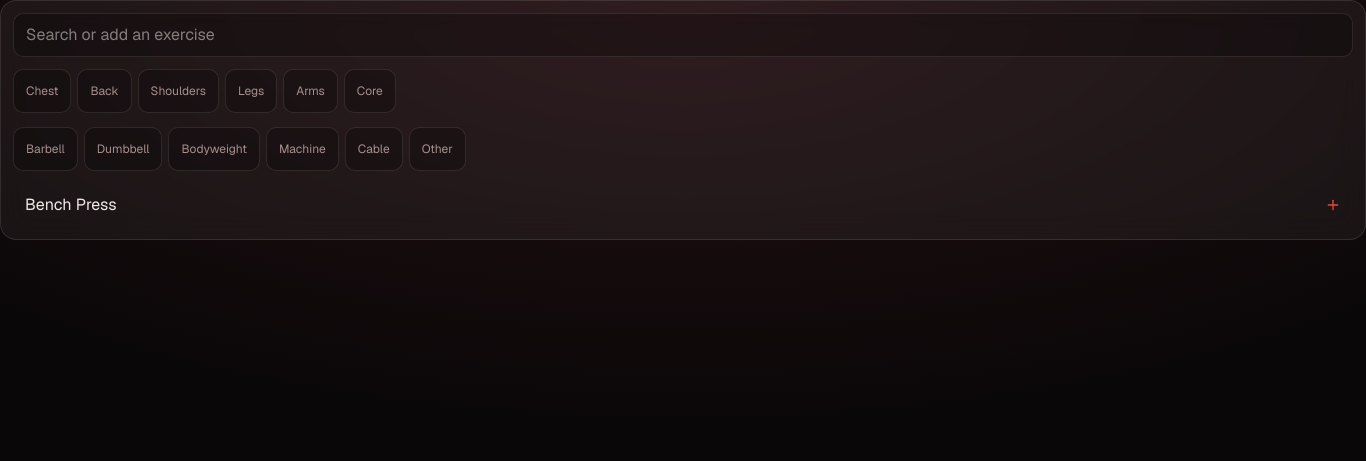
Test: ExercisePicker creation › shows the action's error and keeps the form open for a retry
The image size is (1366, 461).
Type "Pec Deck" into the field with placeholder "Search or add an exercise" at (683, 35), box [13,13,1353,57]
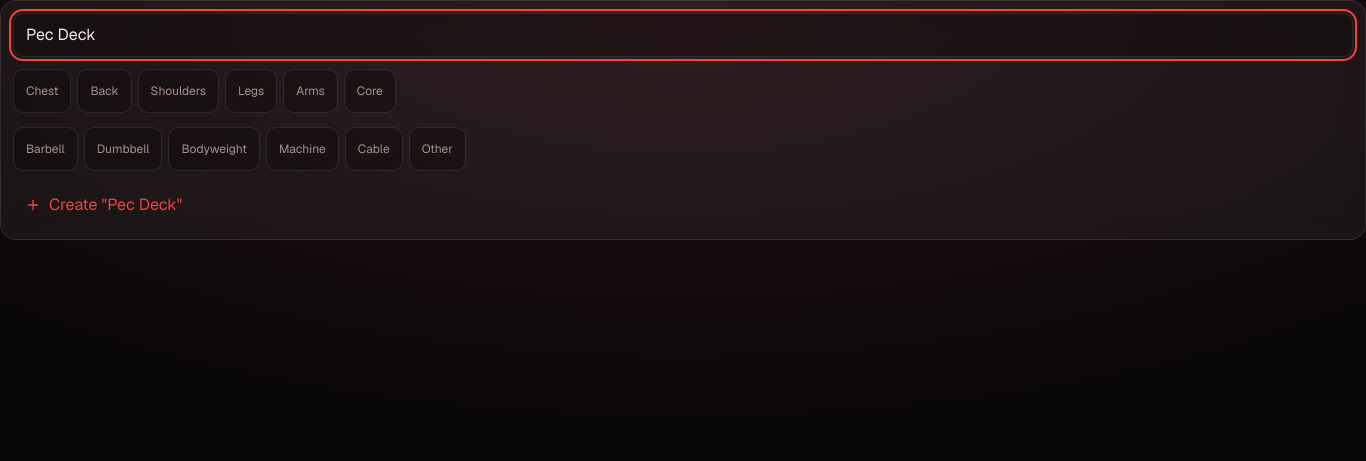
Click the button "Create \"Pec Deck\"" at (78, 204), box [13,183,1353,227]
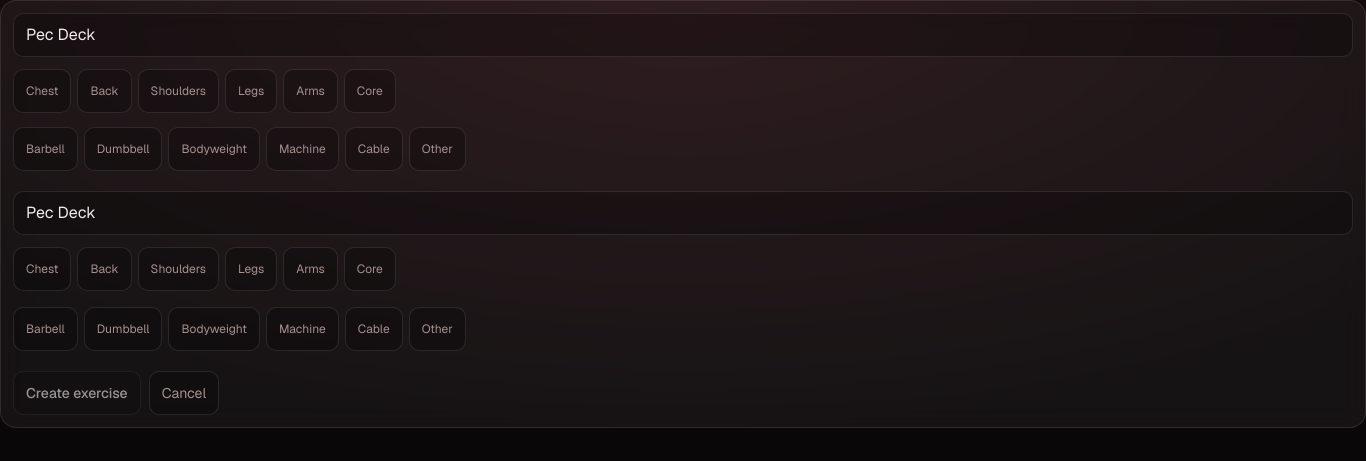
Click the radio button labelled "Chest" at (42, 269), box [13,247,72,291]
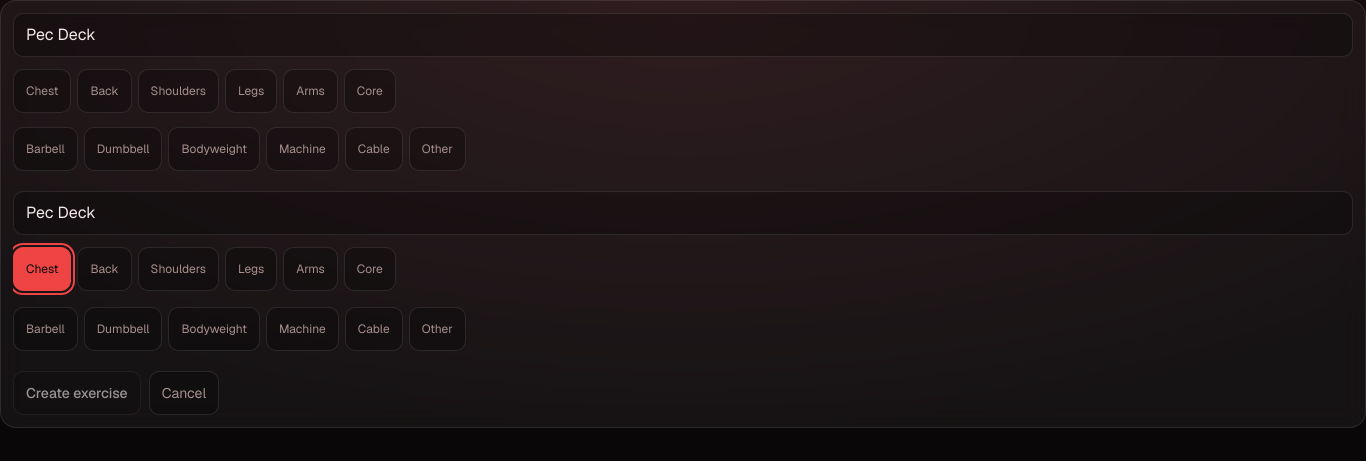
Click the radio button labelled "Machine" at (302, 329), box [266,307,339,351]
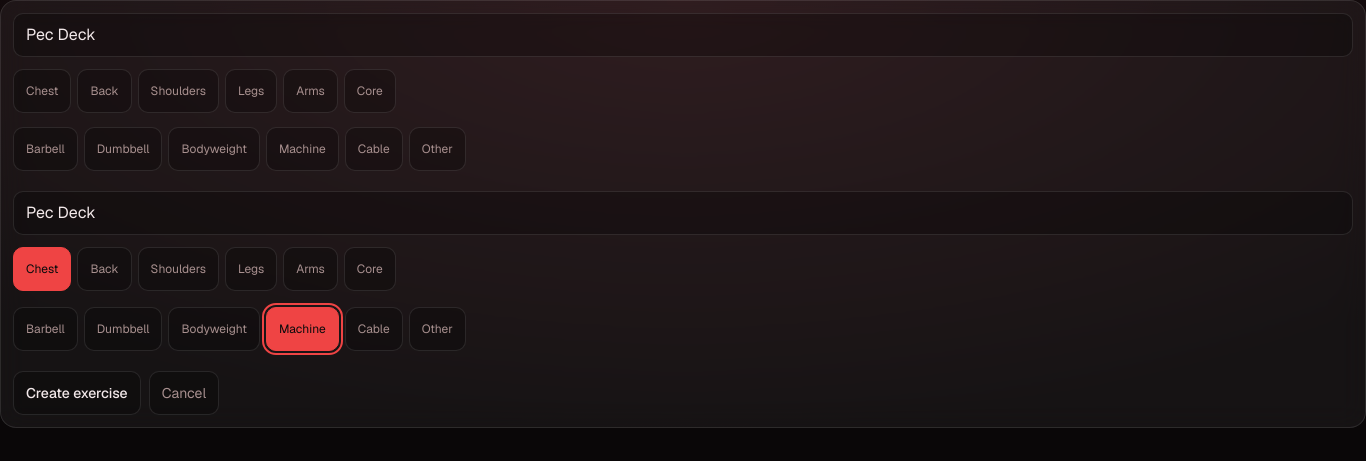
Click the button "Create exercise" at (77, 393), box [13,371,141,415]
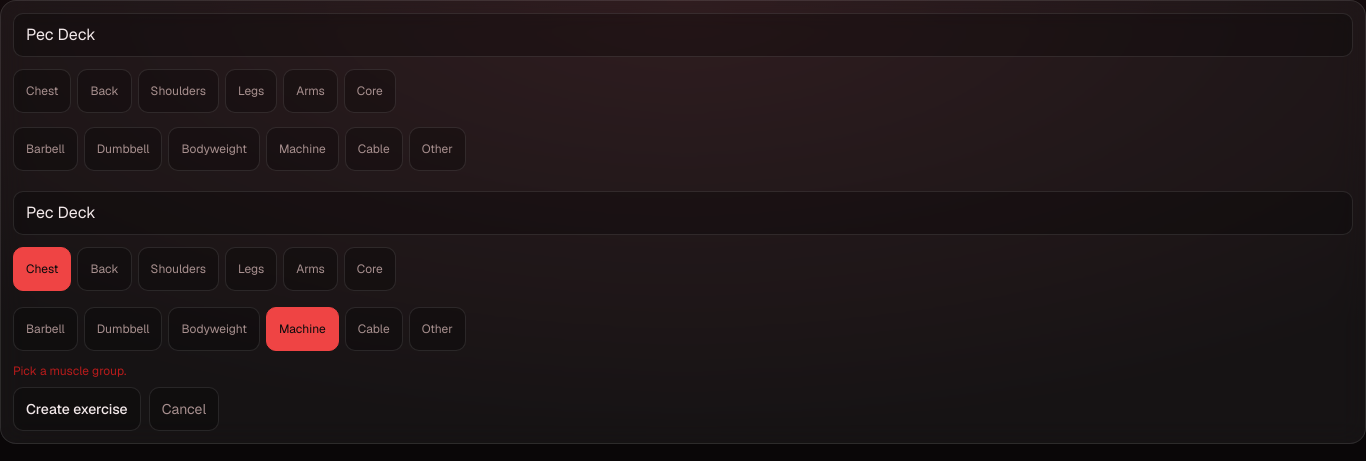
Check: the field named "Exercise name" is shown, box [13,191,1353,235]
Check: the message reads "Pick a muscle group.", box [13,363,126,379]
